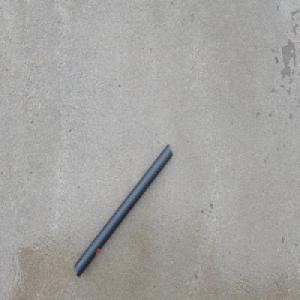LuggagePart: (74, 142, 173, 277)
